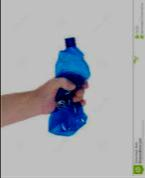bottle: (46, 36, 94, 141)
